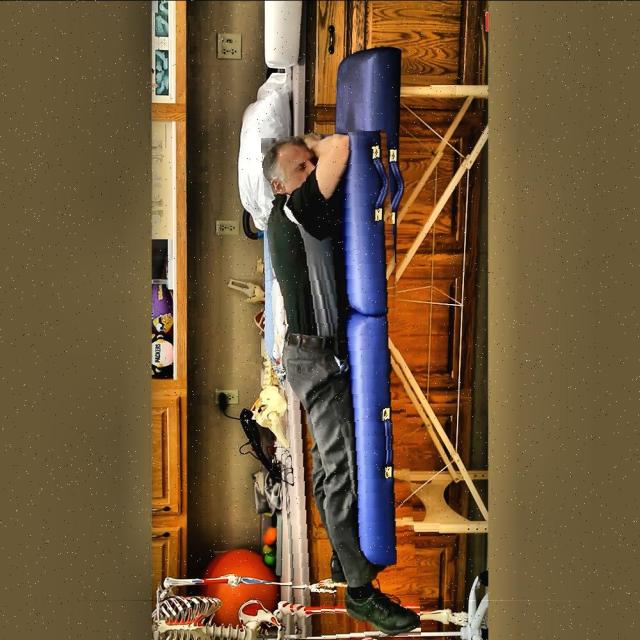Not_Supine: (263, 134, 421, 637)
